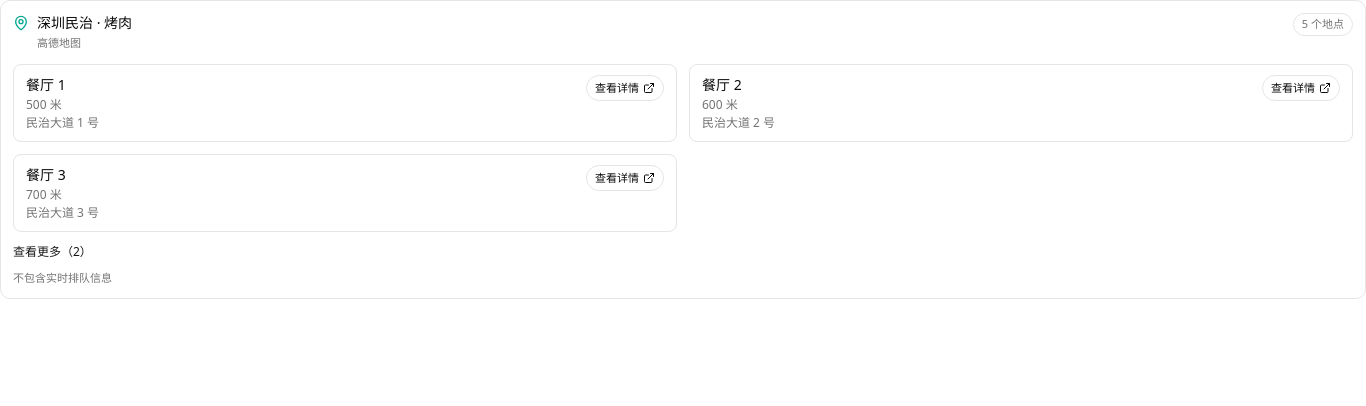
StructuredToolResults › 无图地点使用紧凑卡片，默认 3 项并最多展开到 5 项，每项至多一个安全 CTA
Check: the number of elements with test id "place-result-item" is 3, box [13,64,677,142]; [689,64,1353,142]; [13,154,677,232]
Check: the number of links "查看详情" is 3, box [586,74,664,101]; [1262,74,1340,101]; [586,164,664,191]
Click the button with aria-label "展开更多地点": [52, 252] box [13,244,92,260]
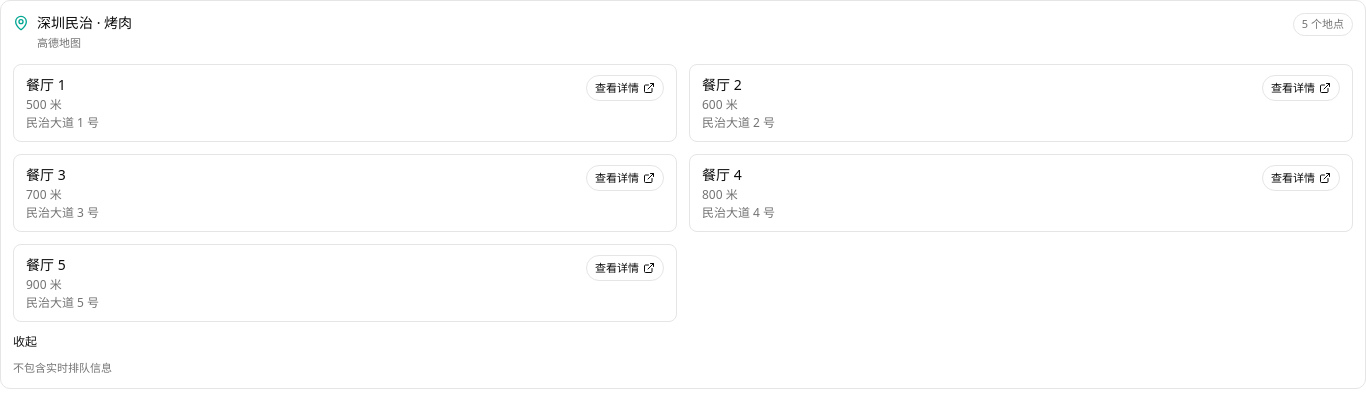
Check: the number of elements with test id "place-result-item" is 5, box [13,64,677,142]; [689,64,1353,142]; [13,154,677,232]; [689,154,1353,232]; [13,244,677,322]
Check: the number of links "查看详情" is 5, box [586,74,664,101]; [1262,74,1340,101]; [586,164,664,191]; [1262,164,1340,191]; [586,254,664,281]
